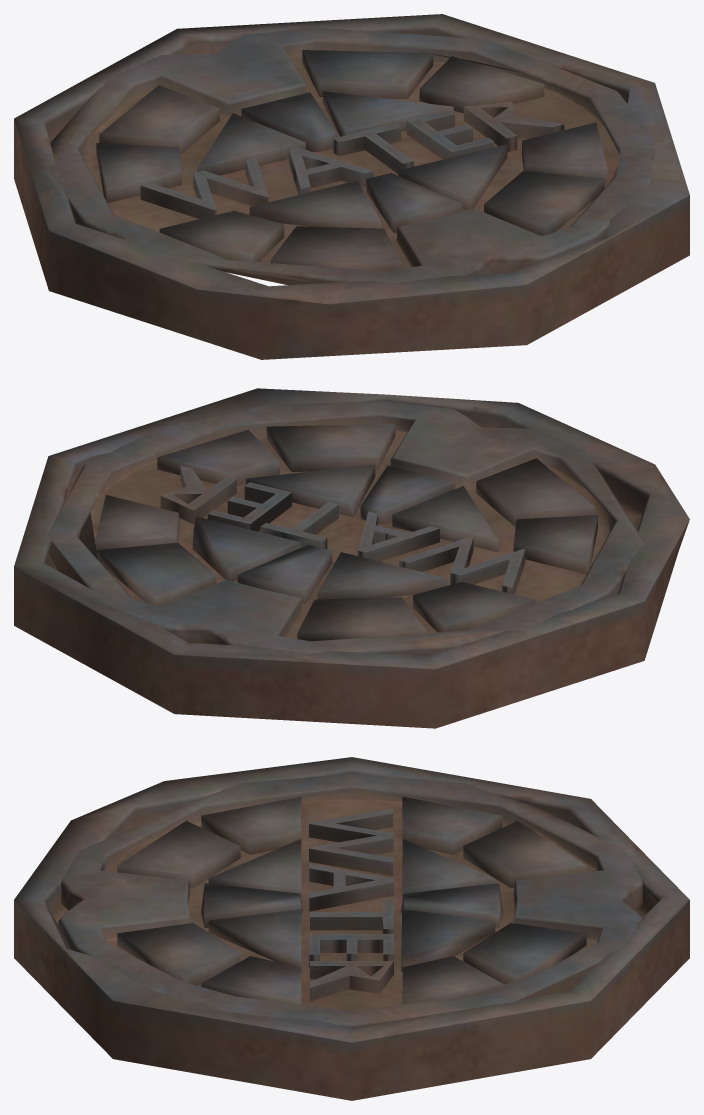
Rendered from gully.glb.
3 views of the same model, one above another, from view 1: azimuth 30°, elevation 25°; view 2: azimuth 150°, elevation 25°; view 3: azimuth 270°, elevation 25° (orthographic). The views are drawn at different scales.
Parts seen in each view (by area): view 1: water_manhole_cover_frame; view 2: water_manhole_cover_frame; view 3: water_manhole_cover_frame.
Boxes of the visible parts, bbox=[...] form: water_manhole_cover_frame: bbox=[14, 14, 689, 359]; water_manhole_cover_frame: bbox=[14, 388, 689, 728]; water_manhole_cover_frame: bbox=[14, 757, 689, 1100].
Size of the model in its own units: 0.6908 by 0.0676 by 0.6908.
1 material, 1 textured.
